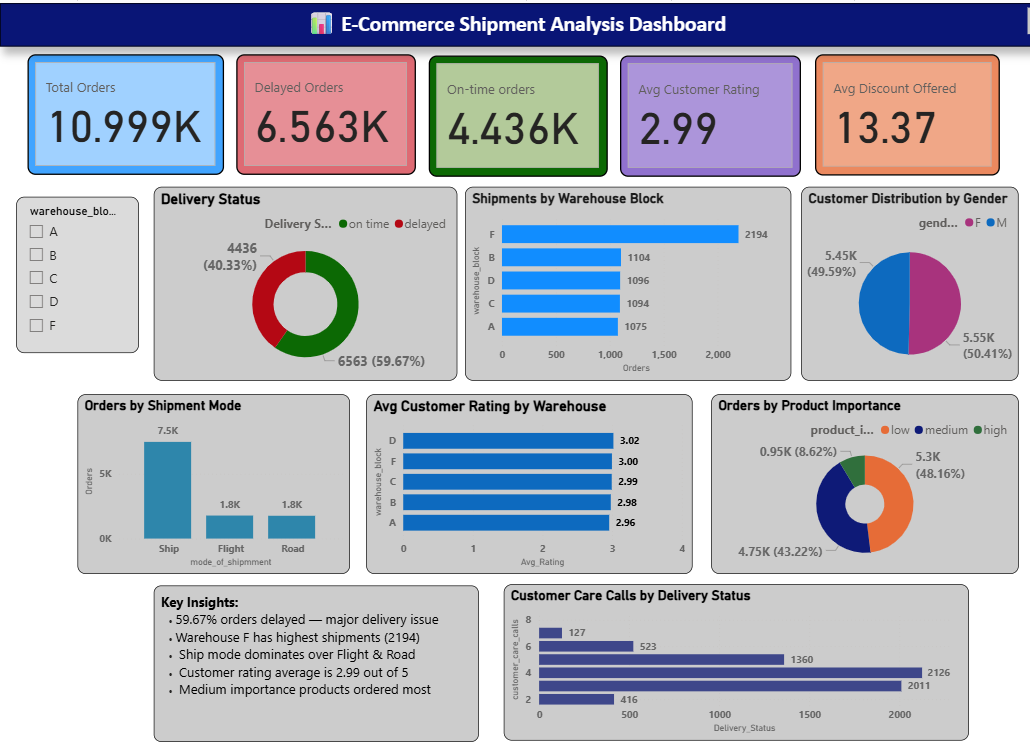

This screenshot's page, from the dashboard's own definition file:
{"tool":"powerbi","page":{"name":"Page 1","canvas":[1280,720],"ordinal":0},"visuals":[{"type":"cardVisual","fields":{"Data":["CountNonNull(ecommerce shipping_analysis.id)"]},"box":[62.1,83.7,241.7,148.6],"z":0},{"type":"cardVisual","fields":{"Data":["ecommerce shipping_analysis.Avg Rating"]},"box":[768.4,83.7,208,148.6],"z":1000},{"type":"cardVisual","fields":{"Data":["ecommerce shipping_analysis.Avg Discount Offered"]},"box":[985.9,83.7,216.1,148.6],"z":2000},{"type":"donutChart","title":"Delivery Status","fields":{"Y":["CountNonNull(ecommerce shipping_analysis.id)"],"Category":["ecommerce shipping_analysis.Delivery Status"]},"box":[212,244.4,278.2,239],"z":3000},{"type":"clusteredBarChart","title":"Warehouse Shipments","fields":{"Y":["CountNonNull(ecommerce shipping_analysis.id)"],"Category":["ecommerce shipping_analysis.warehouse_block"]},"box":[499.7,244.4,407.9,239],"z":4000},{"type":"clusteredColumnChart","title":"Shipment Modes","fields":{"Category":["ecommerce shipping_analysis.mode_of_shipmment"],"Y":["CountNonNull(ecommerce shipping_analysis.id)"]},"box":[126.9,494.3,297.1,214.7],"z":5000},{"type":"clusteredBarChart","title":"Warehouse Ratings","fields":{"Category":["ecommerce shipping_analysis.warehouse_block"],"Y":["Avg(ecommerce shipping_analysis.customer_rating)"]},"box":[433.5,494.3,367.3,214.7],"z":6000},{"type":"pieChart","title":"Customer Gender","fields":{"Category":["ecommerce shipping_analysis.gender"],"Y":["CountNonNull(ecommerce shipping_analysis.id)"]},"box":[918.3,244.4,297.1,239],"z":7000},{"type":"slicer","fields":{"Values":["ecommerce shipping_analysis.warehouse_block"]},"box":[20.3,244.4,181,182.3],"z":8000},{"type":"donutChart","title":"Product Importance","fields":{"Category":["ecommerce shipping_analysis.product_importance"],"Y":["CountNonNull(ecommerce shipping_analysis.id)"]},"box":[814.4,494.3,322.8,214.7],"z":9000},{"type":"cardVisual","fields":{"Data":["CountNonNull(ecommerce shipping_analysis.id)"]},"box":[313.3,83.7,222.8,148.6],"z":10000},{"type":"cardVisual","fields":{"Data":["CountNonNull(ecommerce shipping_analysis.id)"]},"box":[545.6,83.7,212,148.6],"z":11000},{"type":"textbox","box":[0,0,1280.3,67.5],"z":11001}]}

Visuals, with their boxes on the page's 1280x720 design canvas (x1, y1, x2, y2). These are canvas units, not pixel positions in the 1030x747 screenshot, which may show the page scaled, cropped or inside an application window:
cardVisual - CountNonNull(ecommerce shipping_analysis.id): (62, 84, 304, 232)
cardVisual - ecommerce shipping_analysis.Avg Rating: (768, 84, 976, 232)
cardVisual - ecommerce shipping_analysis.Avg Discount Offered: (986, 84, 1202, 232)
"Delivery Status" donutChart: (212, 244, 490, 483)
"Warehouse Shipments" clusteredBarChart: (500, 244, 908, 483)
"Shipment Modes" clusteredColumnChart: (127, 494, 424, 709)
"Warehouse Ratings" clusteredBarChart: (434, 494, 801, 709)
"Customer Gender" pieChart: (918, 244, 1215, 483)
slicer - ecommerce shipping_analysis.warehouse_block: (20, 244, 201, 427)
"Product Importance" donutChart: (814, 494, 1137, 709)
cardVisual - CountNonNull(ecommerce shipping_analysis.id): (313, 84, 536, 232)
cardVisual - CountNonNull(ecommerce shipping_analysis.id): (546, 84, 758, 232)
textbox: (0, 0, 1280, 68)
